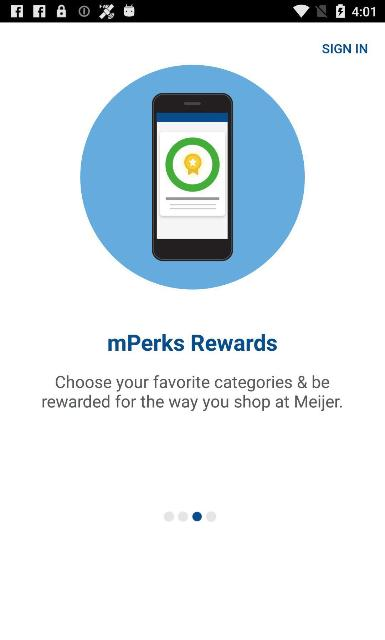Image: (80, 64, 306, 290)
PageIndicator: (164, 510, 216, 522)
Text: (42, 374, 342, 412), (108, 333, 276, 351), (322, 44, 368, 54)
UpperTaskBar: (0, 0, 384, 22)
